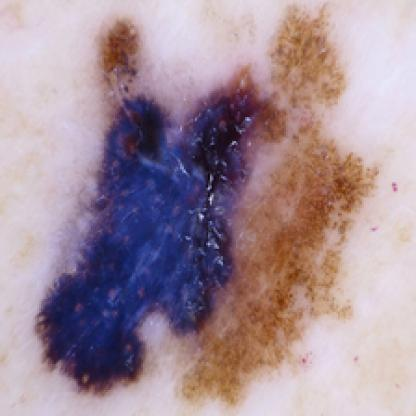Skin_Cancer-Malignant: (34, 10, 374, 414)
